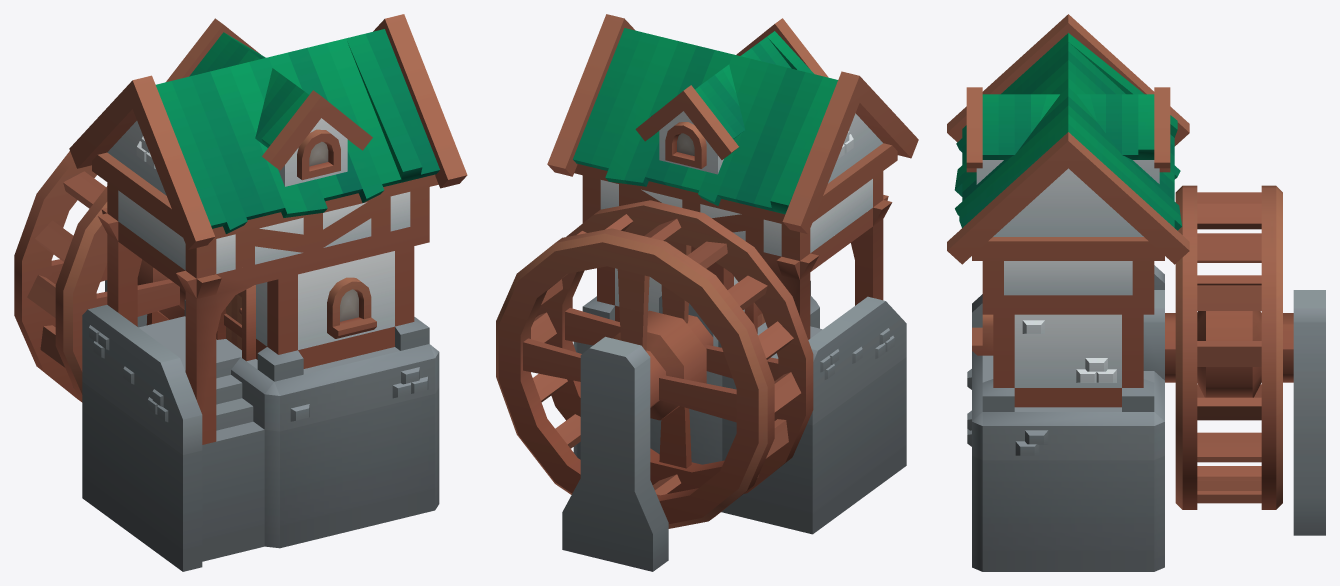
Rendered from building_watermill_green.gltf.
3 renders of one model, left to right at view 1: azimuth 30°, elevation 25°; view 2: azimuth 150°, elevation 25°; view 3: azimuth 270°, elevation 25°, orthographic. The views are drawn at different scales.
Parts seen in each view (by area): view 1: building_watermill_green, building_watermill_wheel_green; view 2: building_watermill_green, building_watermill_wheel_green; view 3: building_watermill_green, building_watermill_wheel_green.
Boxes of the visible parts, <box> form: building_watermill_green: <box>69,14,467,571</box>; building_watermill_wheel_green: <box>14,151,185,402</box>; building_watermill_green: <box>547,14,918,571</box>; building_watermill_wheel_green: <box>496,200,813,528</box>; building_watermill_green: <box>947,14,1325,571</box>; building_watermill_wheel_green: <box>1165,185,1293,509</box>.
Bounding box in the file's own units: 1.05 × 1.57 × 1.24.
1 material, 1 textured.
